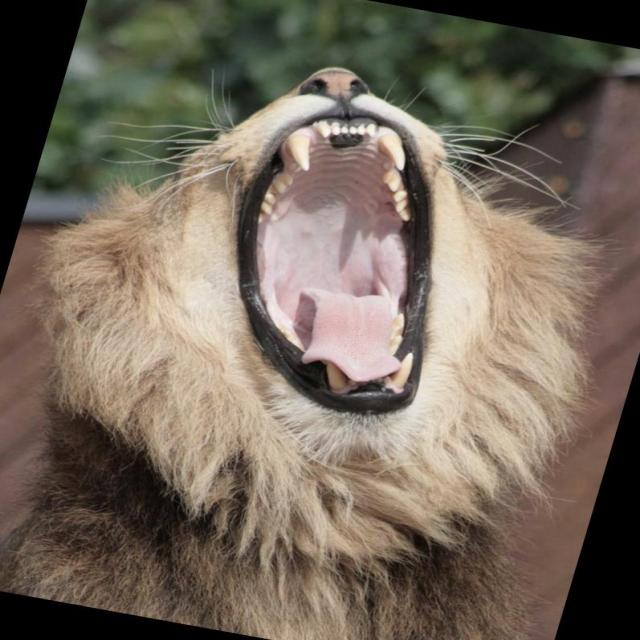Lion: (0, 15, 639, 640)
